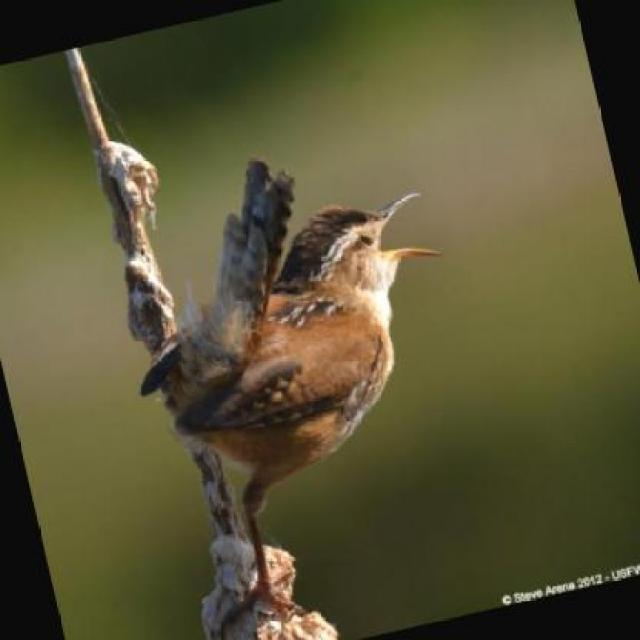Bird: (171, 165, 441, 536)
